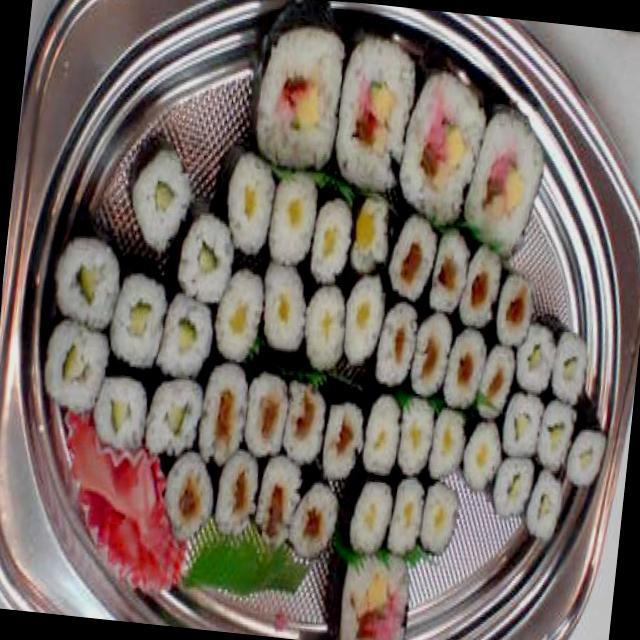Sushi: (53, 0, 640, 506)
